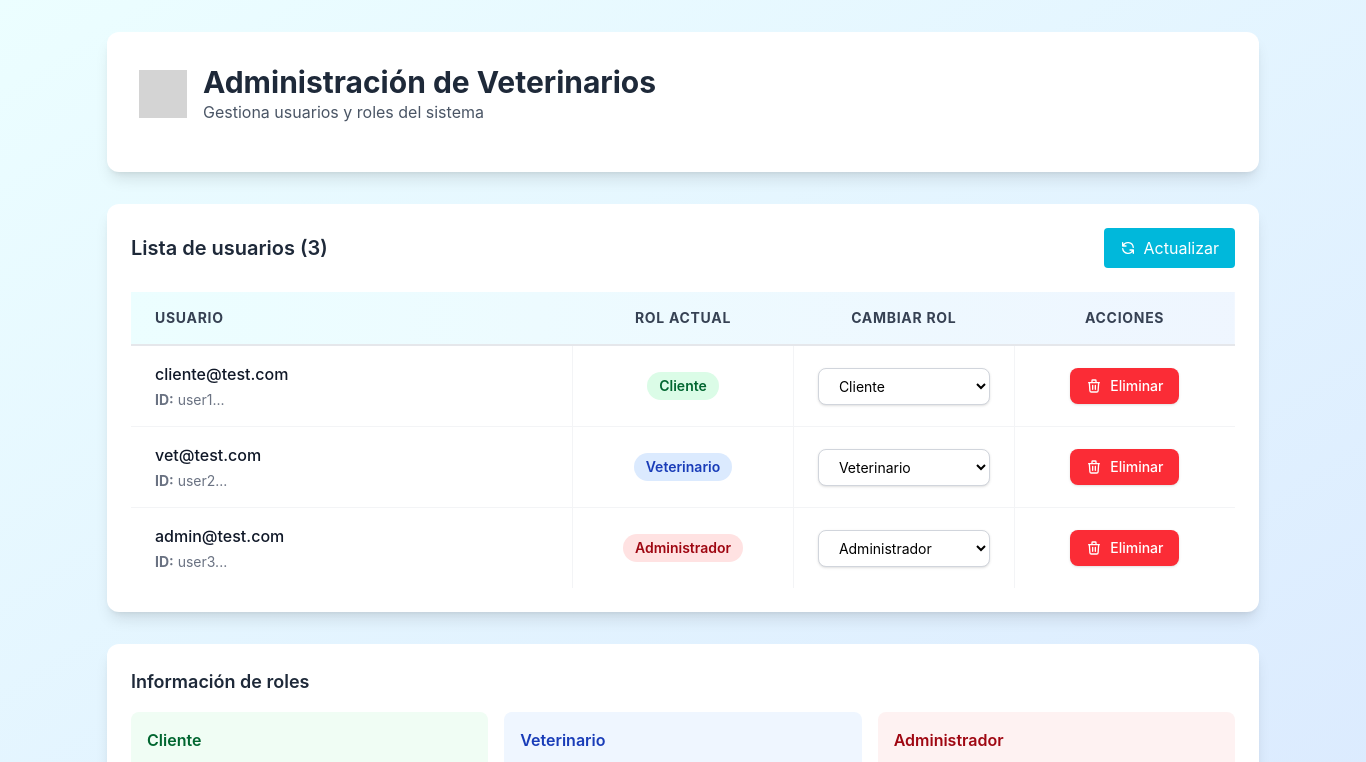
it: AdminVets › muestra panel de cambios pendientes al modificar un rol
Select "Veterinario" in the dropdown in the row of "cliente@test.com" at (904, 386), box [818, 368, 990, 404]
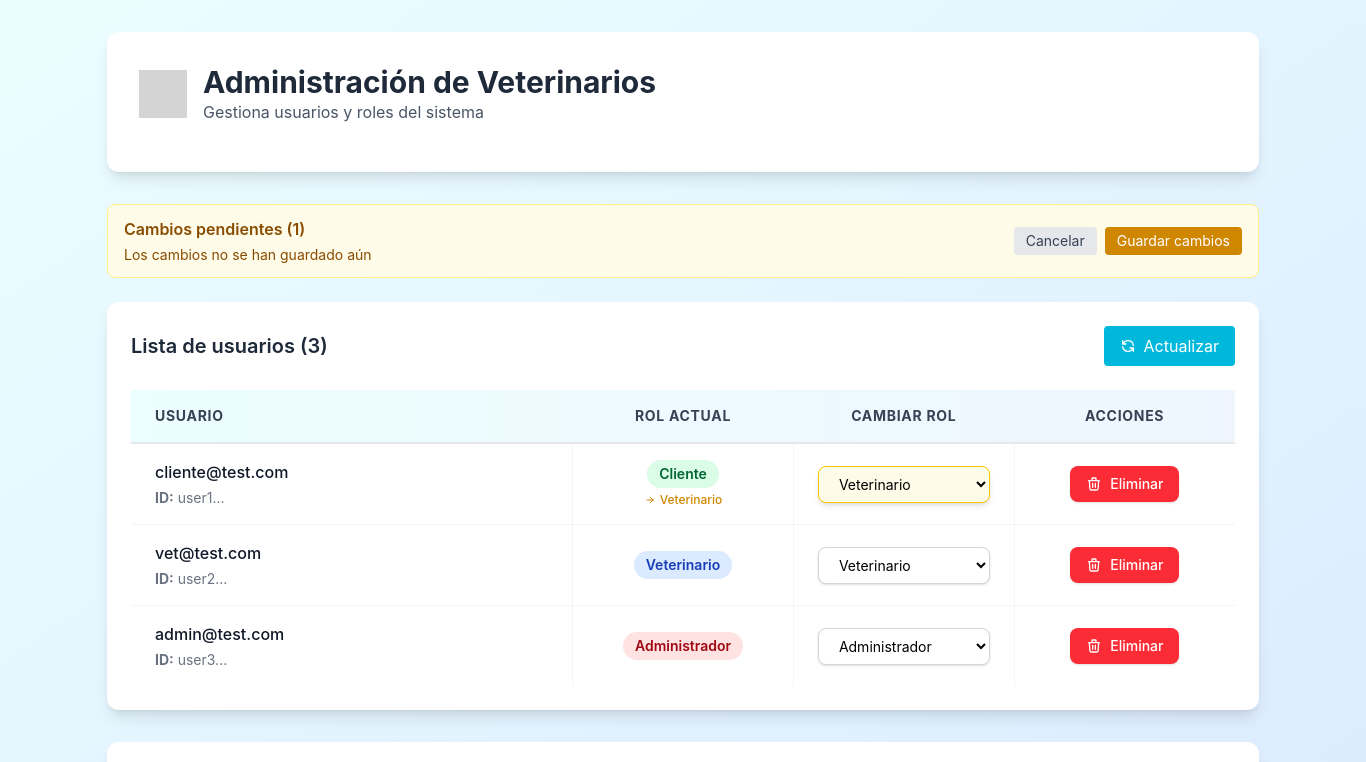
Check: the heading "Cambios pendientes (1)" is shown, box [124, 219, 305, 239]
Check: the text "Guardar cambios" is shown, box [1117, 231, 1230, 251]
